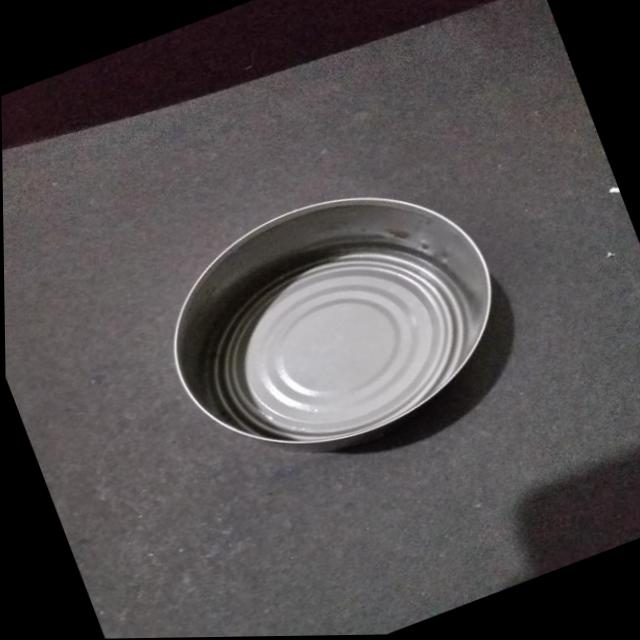metal: (175, 198, 490, 448)
